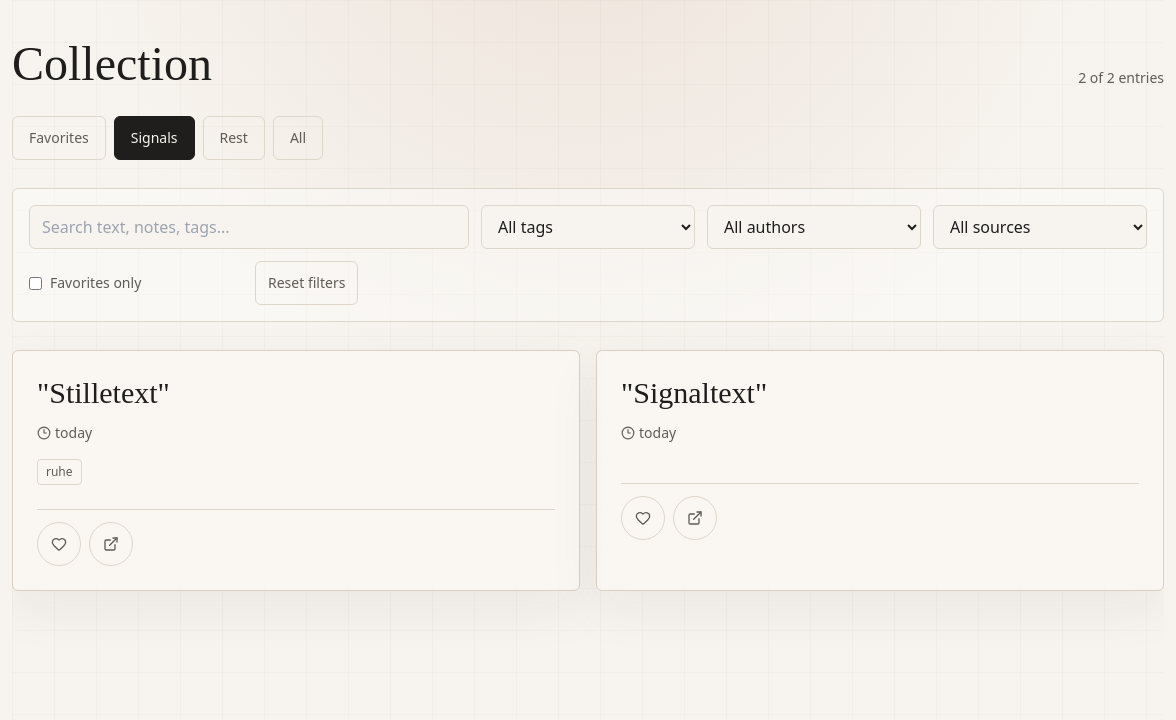
it: LibraryPage › zeigt in der leeren Stille-Ansicht die Stille-Meldung
This screenshot has width=1176, height=720.
Click the button "Rest".
click(234, 138)  # box [202,116,265,160]
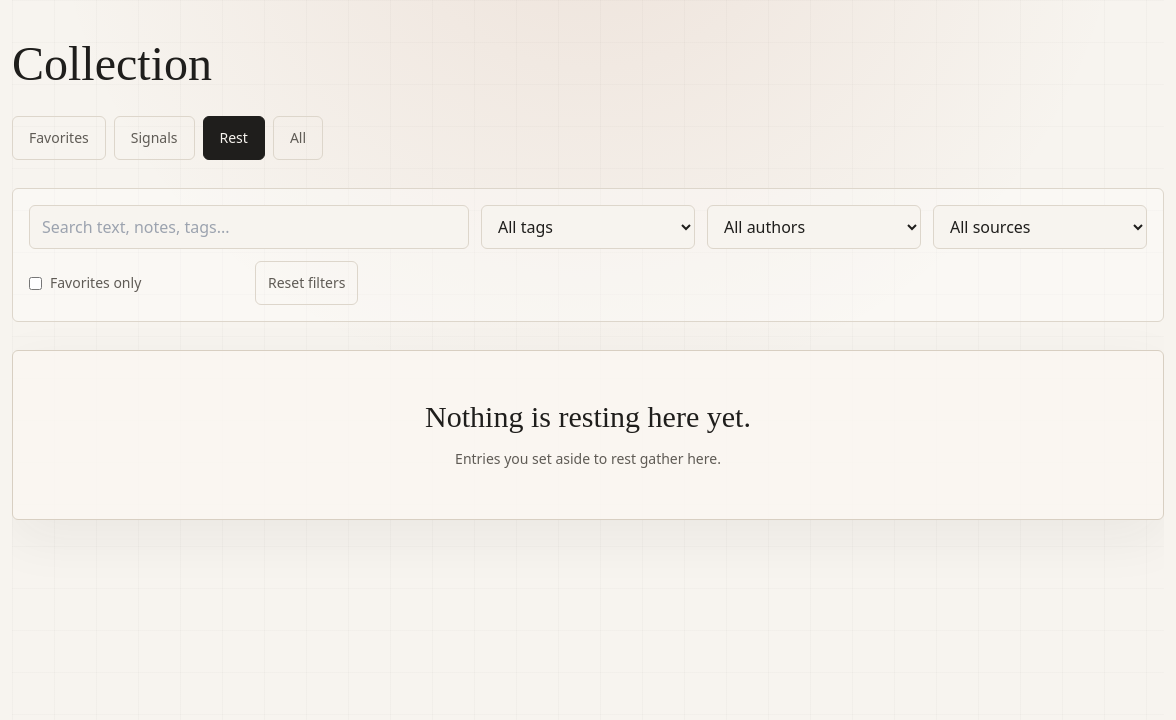
Result: the heading "Nothing is resting here yet." is shown at [425,400,751,433]
